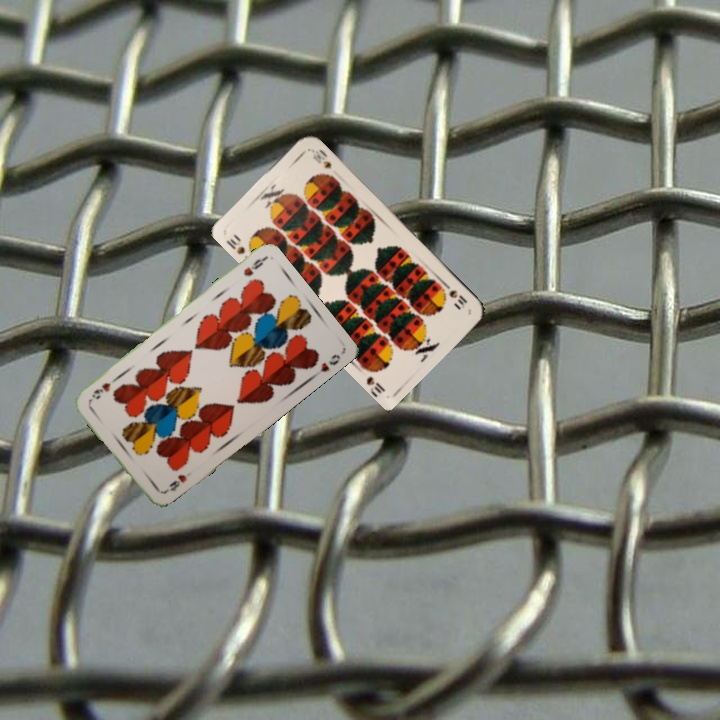H9: (161, 468, 194, 495), (239, 254, 267, 279)
S10: (440, 279, 470, 311), (222, 230, 248, 257)
